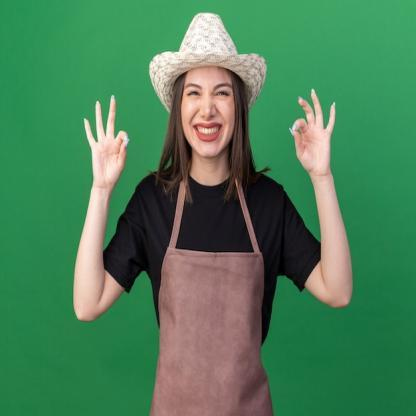ok: (82, 94, 132, 195), (288, 89, 338, 178)
